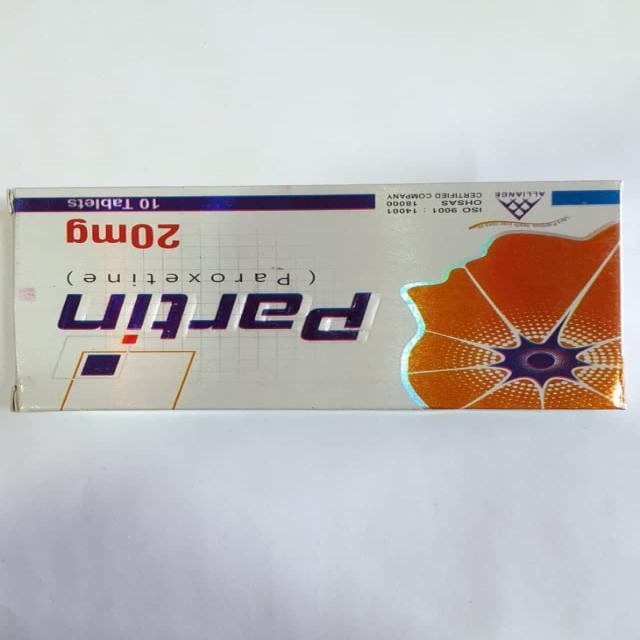drug-name: (51, 290, 388, 346)
